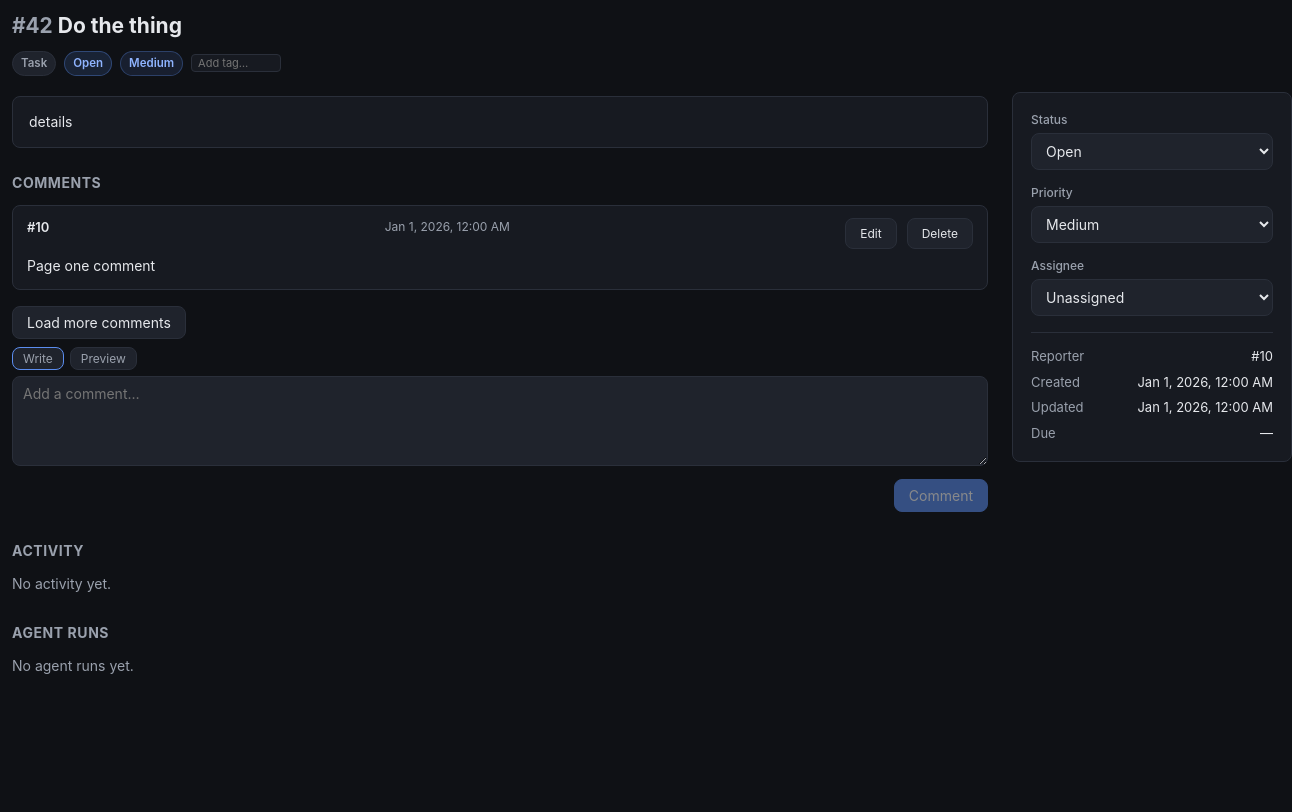
it: TicketDetail comment pagination › appends next page and hides button when all comments are now loaded
Check: the heading "#42 Do the thing" is shown, box [12,13,182,38]
Check: the text "Page one comment" is shown, box [27,257,155,274]
Click the button "Load more comments" at (99, 323), box [12,306,186,340]
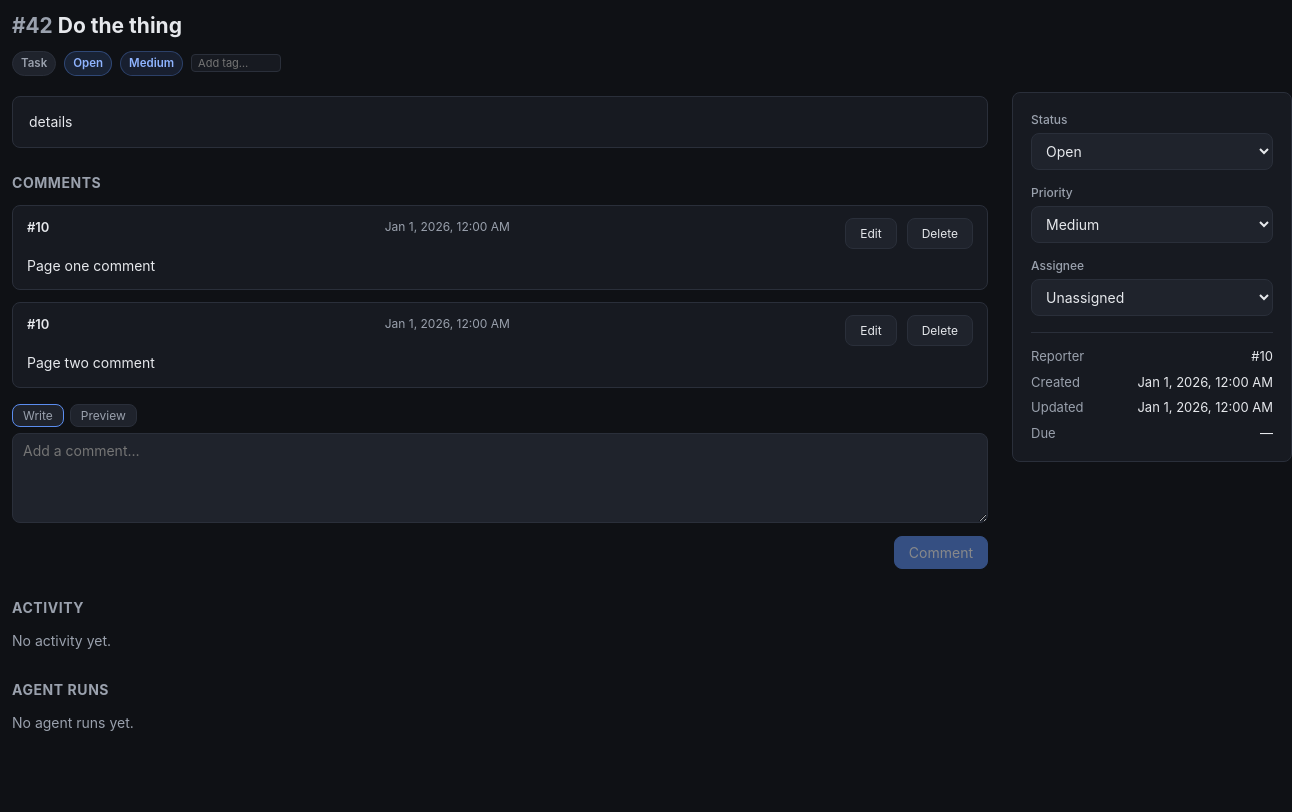
Check: the text "Page one comment" is shown, box [27,257,155,274]
Check: the text "Page two comment" is shown, box [27,354,155,372]
Check: the button "Load more comments" is gone
